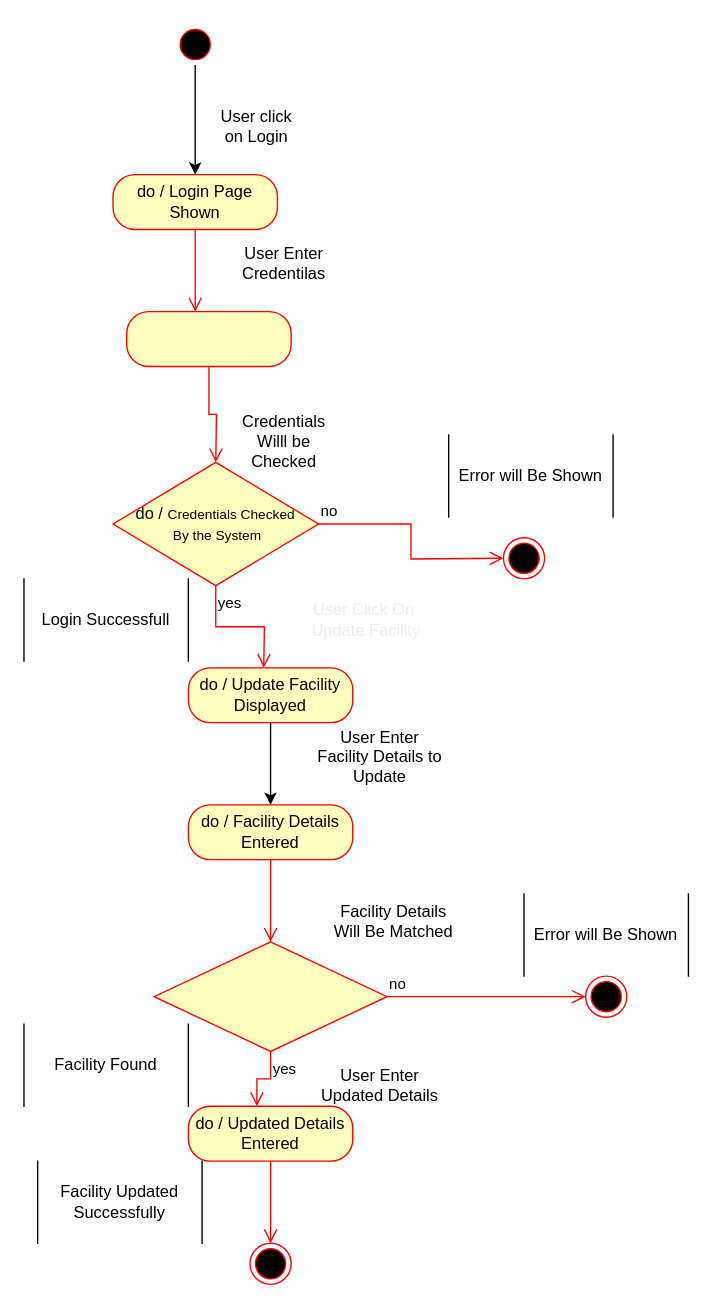
Image size: 712x1308. Some labels were removed from this diagram. Each missing label, with the centre of its shape:
"do / Facility Details Matched By The System" belongs at point (270, 996).
"do / User Credentials Entered" belongs at point (208, 338).
